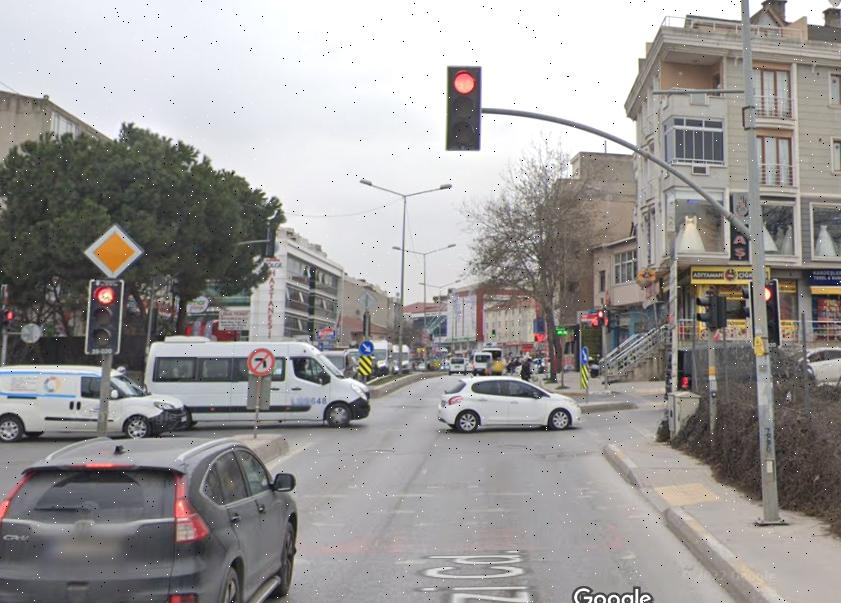leftturnsareforbidden: (247, 347, 275, 375)
redlight: (449, 63, 480, 152), (90, 279, 118, 346)
